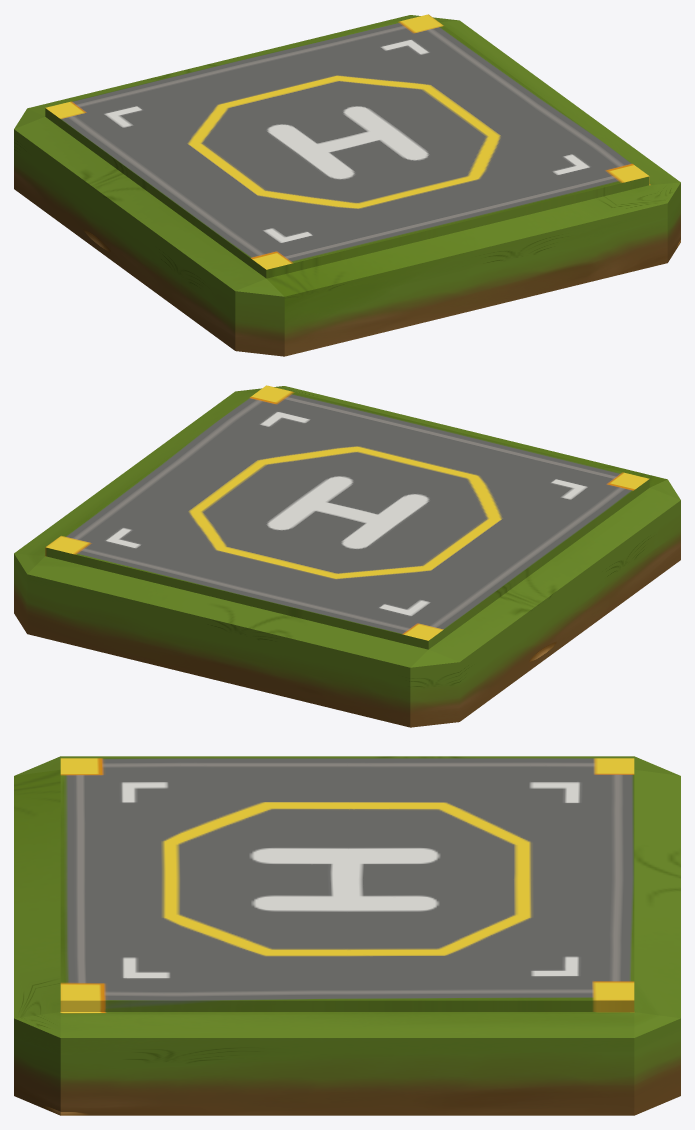
The model's file is HELI PAD.fbx.
3 views of the same model, one above another, from view 1: azimuth 30°, elevation 25°; view 2: azimuth 150°, elevation 25°; view 3: azimuth 270°, elevation 25° (orthographic). The views are drawn at different scales.
Visible parts, largest first — view 1: Cube.004; view 2: Cube.004; view 3: Cube.004.
Boxes of the visible parts, bbox=[...] form: Cube.004: bbox=[14, 14, 680, 356]; Cube.004: bbox=[14, 385, 680, 727]; Cube.004: bbox=[14, 756, 680, 1115].
Size of the model in its own units: 3.3 by 0.5554 by 3.3.
1 material, 1 textured.
